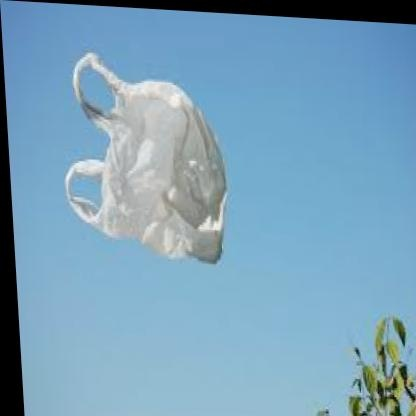trash: (65, 52, 225, 262)
